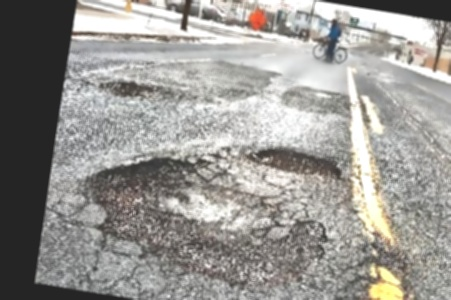pothole: (69, 136, 341, 300), (243, 139, 349, 182), (99, 74, 171, 105)
